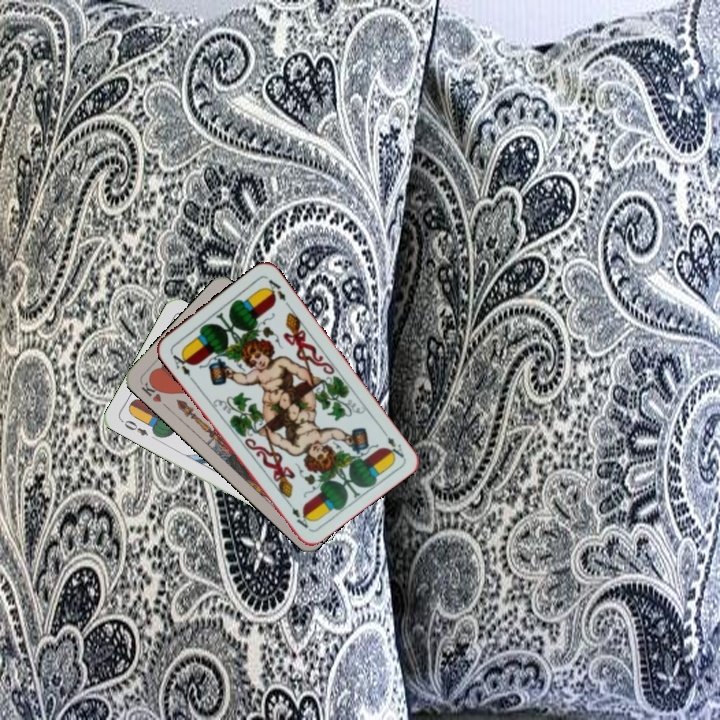EA: (377, 425, 407, 462), (166, 348, 196, 383)
EO: (117, 416, 151, 438)
HK: (137, 375, 167, 405)
